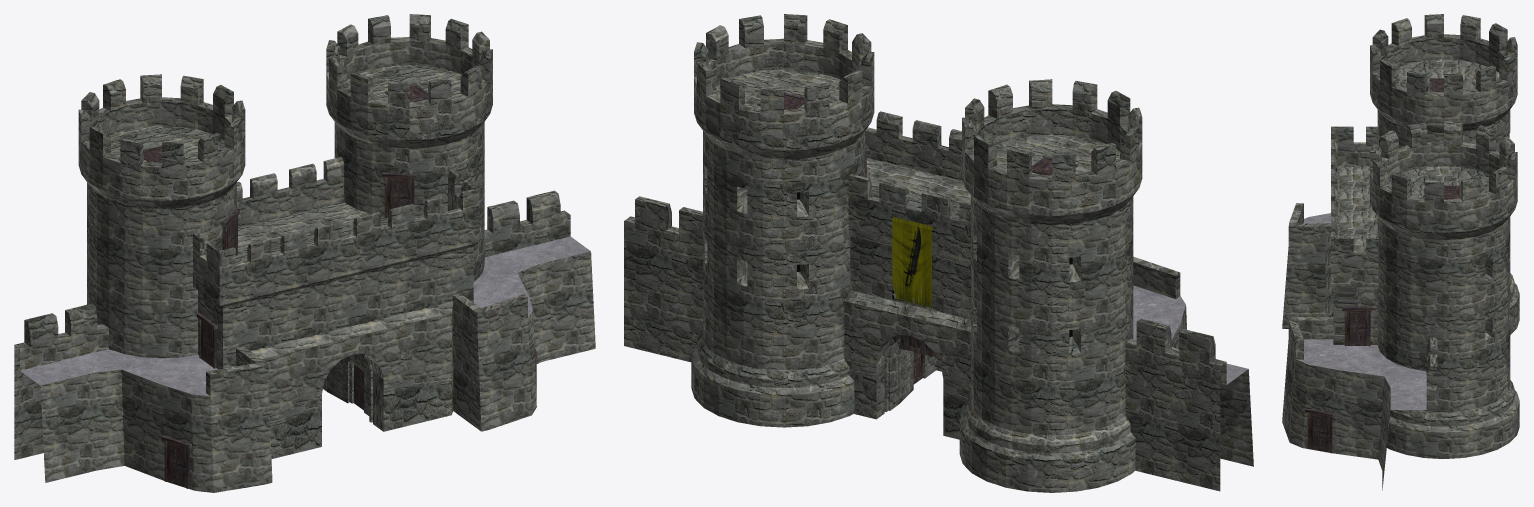
File: gatehouse.glb
3 views of the same model, side by side, from view 1: azimuth 30°, elevation 25°; view 2: azimuth 150°, elevation 25°; view 3: azimuth 270°, elevation 25° (orthographic). The views are drawn at different scales.
Parts seen in each view (by area): view 1: gatehouse; view 2: gatehouse; view 3: gatehouse.
Boxes of the visible parts, x1,y1,x2,y2 form: gatehouse: (14,14,595,492); gatehouse: (624,14,1253,492); gatehouse: (1282,14,1519,490).
Size of the model in its own units: 29.08 by 15.7 by 12.26.
Materials: 8 (7 with a texture image).
